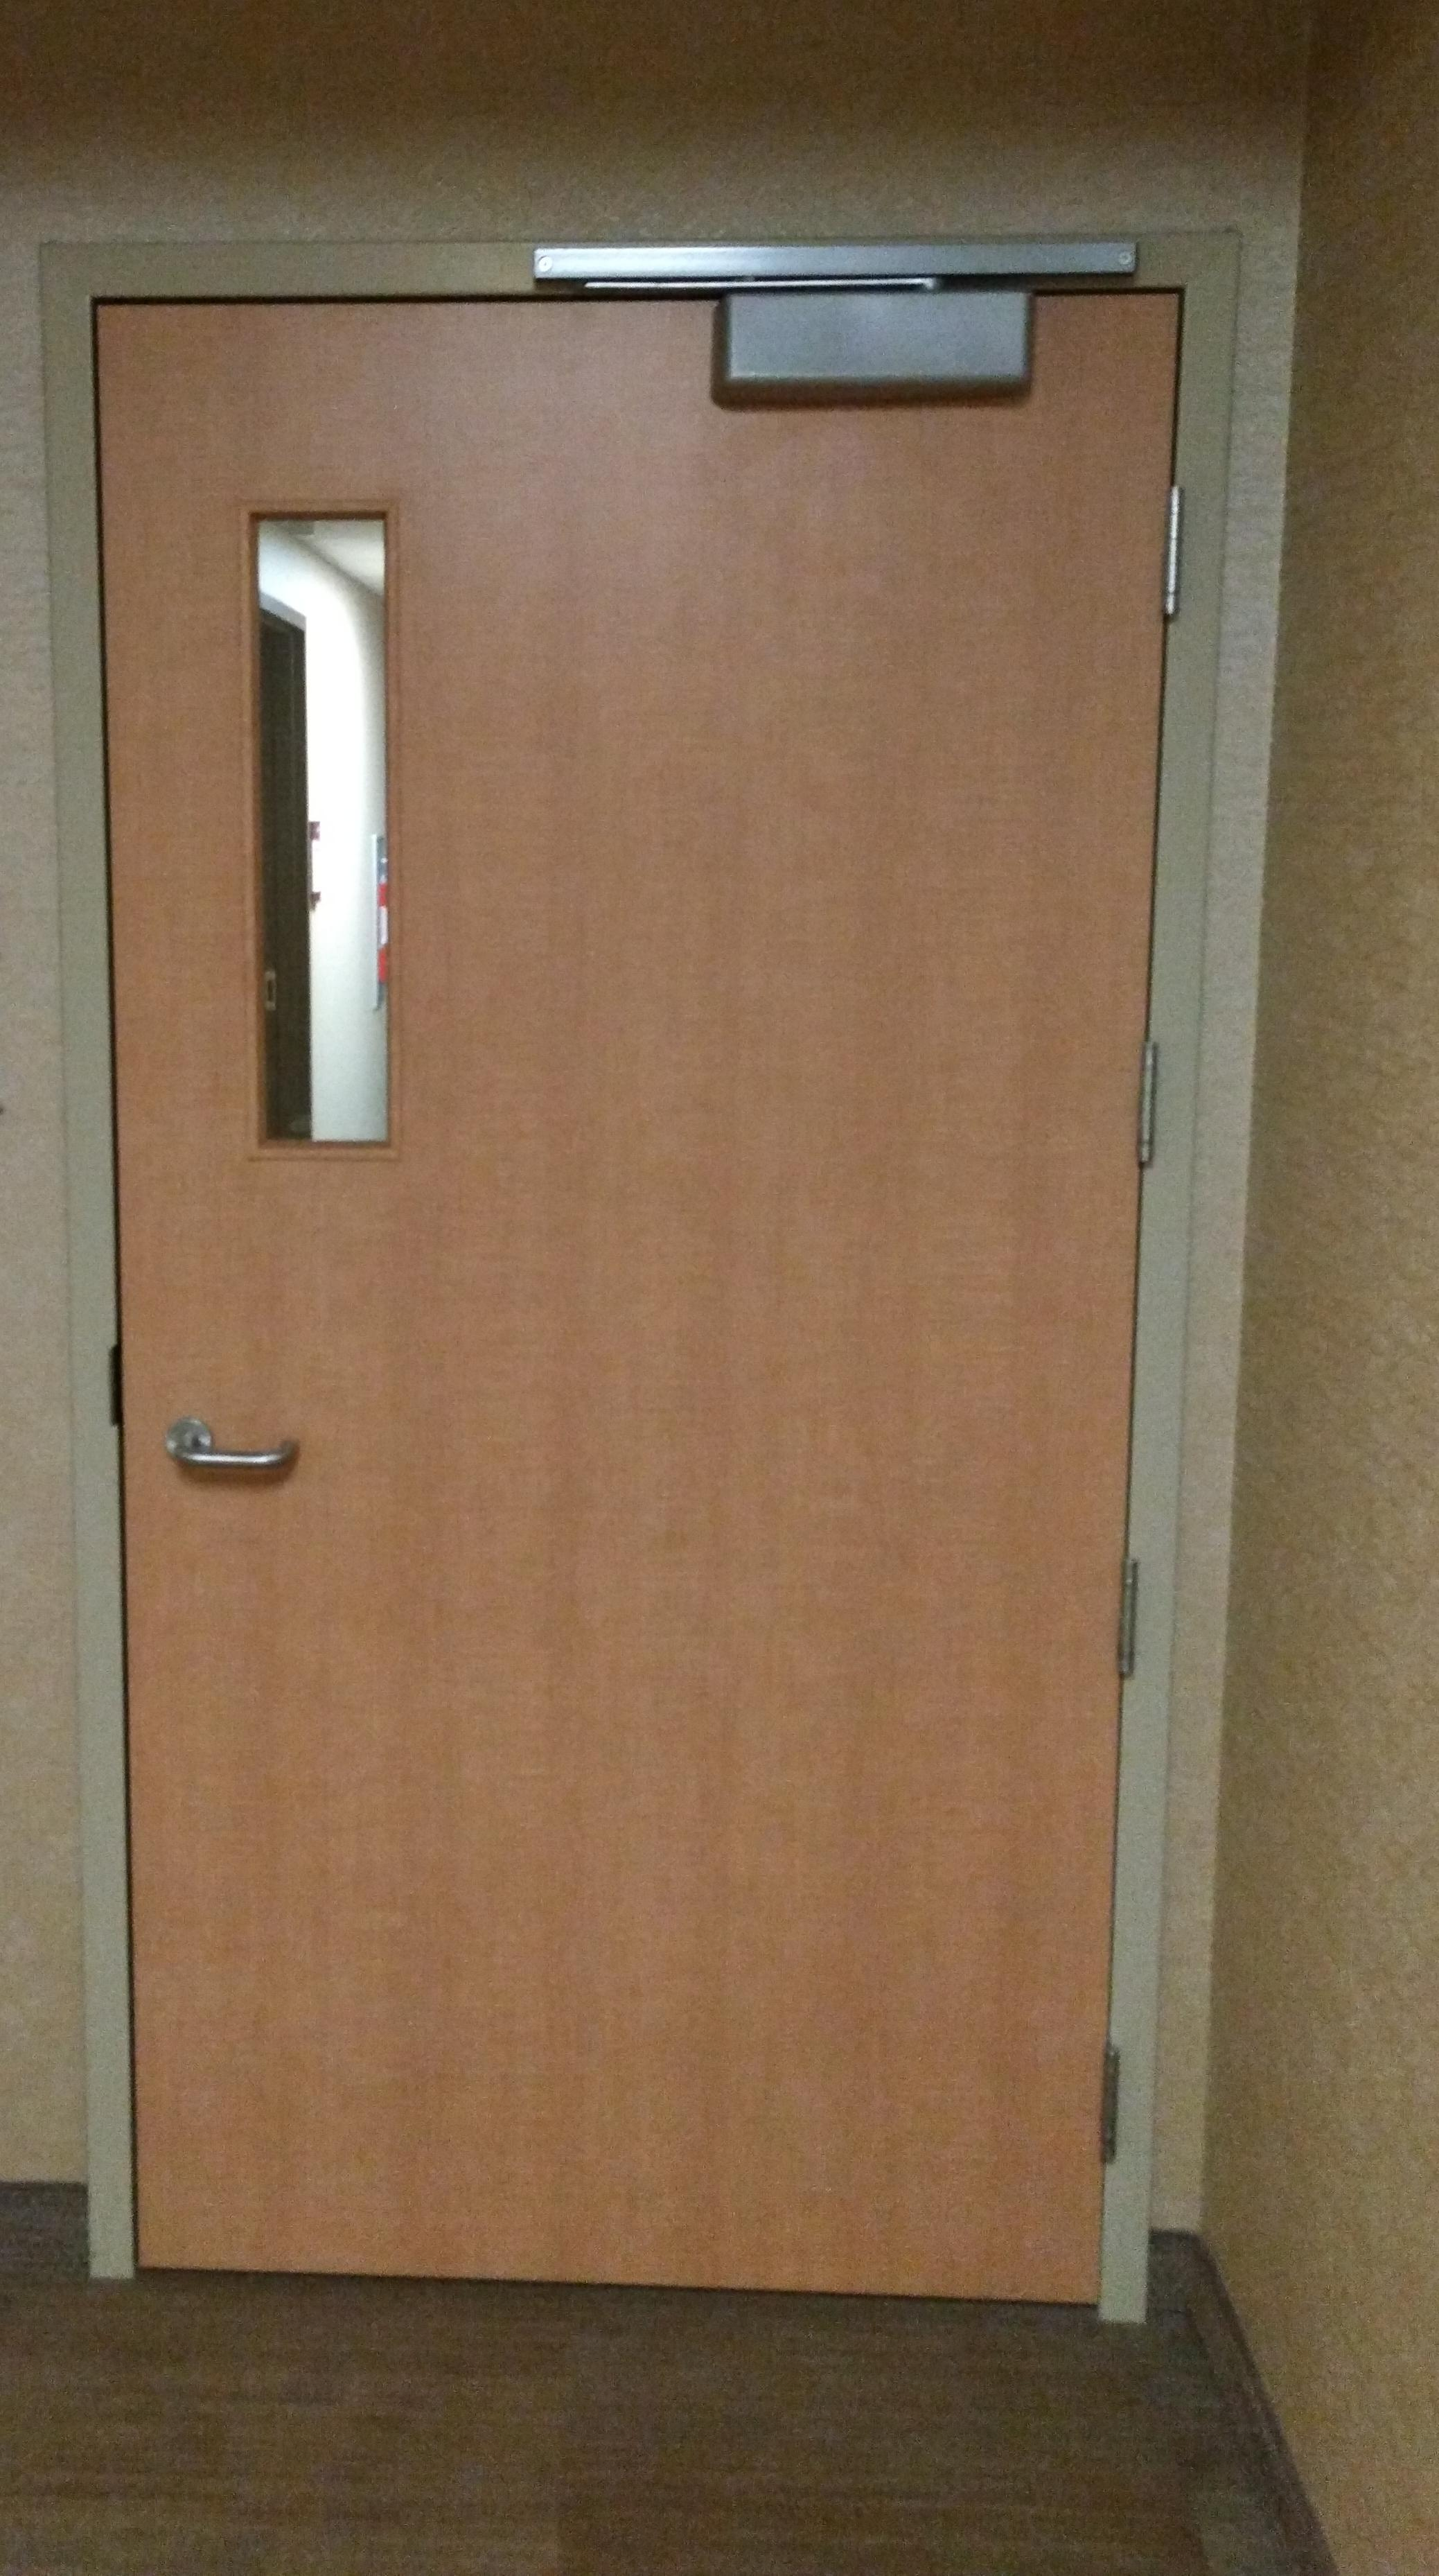door: (35, 226, 1190, 2351)
